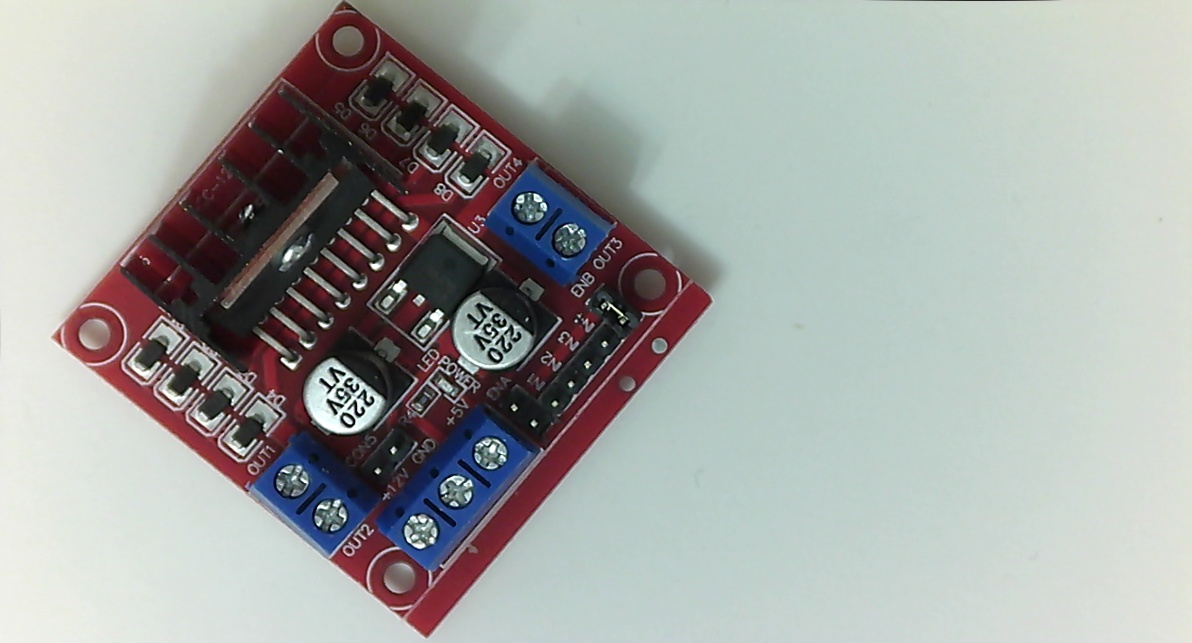IC: (142, 140, 397, 333), (371, 241, 492, 322)
LED: (428, 374, 463, 397)
capacitor: (298, 334, 414, 444), (451, 277, 552, 376)
connector: (372, 449, 531, 538), (506, 158, 595, 289), (261, 453, 376, 537), (528, 344, 630, 391), (504, 391, 539, 443), (597, 286, 629, 339), (360, 441, 411, 474)
diode: (457, 130, 500, 198), (132, 320, 174, 386), (361, 55, 403, 119), (226, 399, 270, 460), (425, 110, 466, 171), (196, 374, 236, 435), (395, 80, 430, 146), (167, 350, 205, 409)
resistor: (411, 389, 436, 421)
